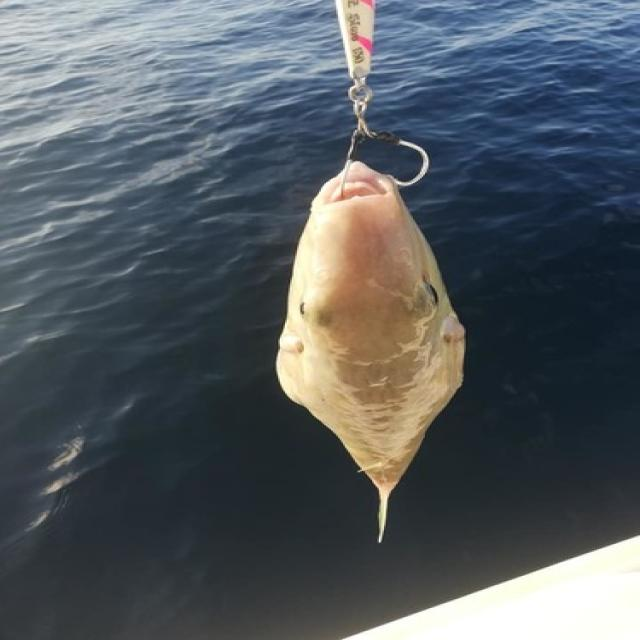Balik: (277, 163, 464, 540)
